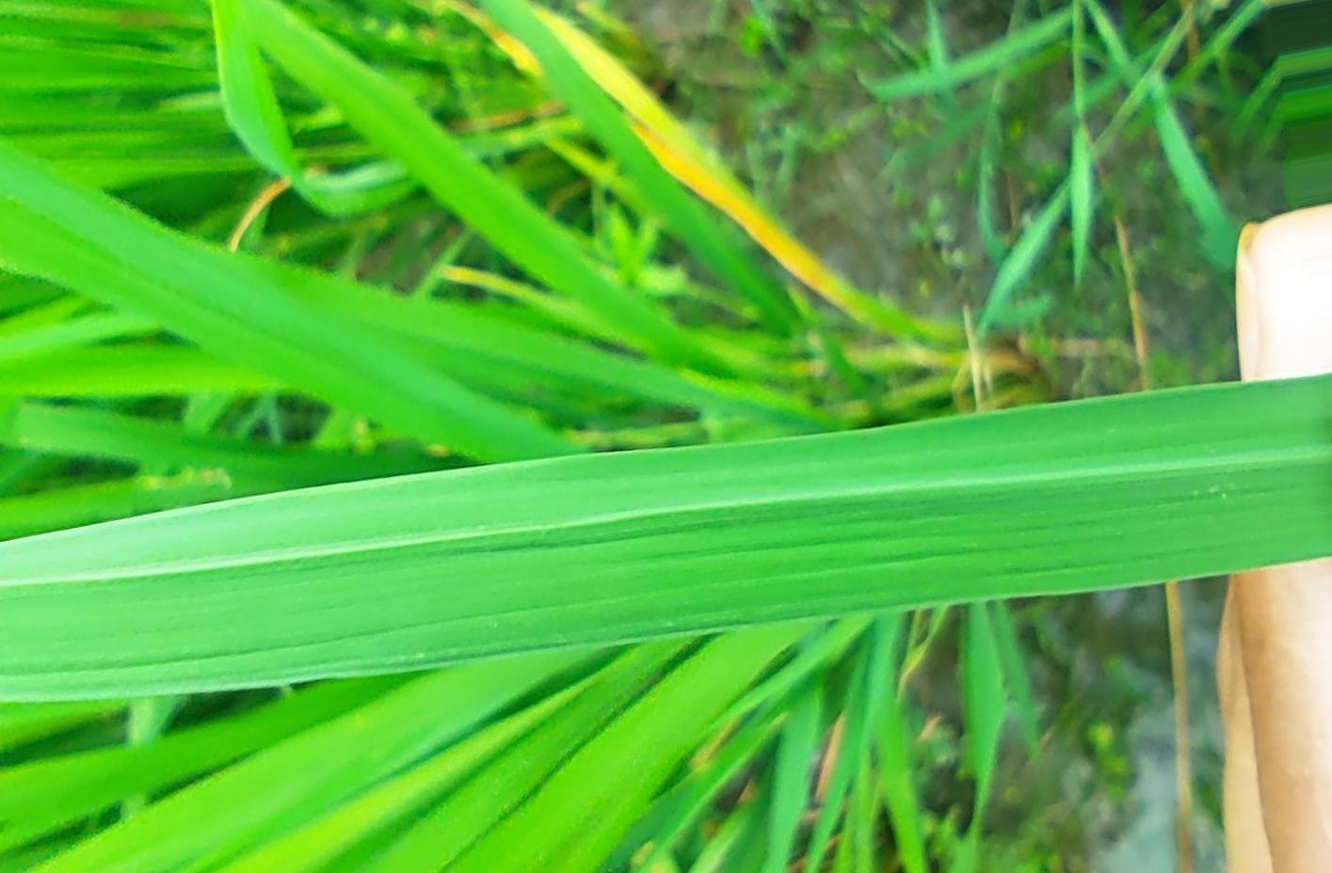Healthy: (0, 376, 1331, 701)
